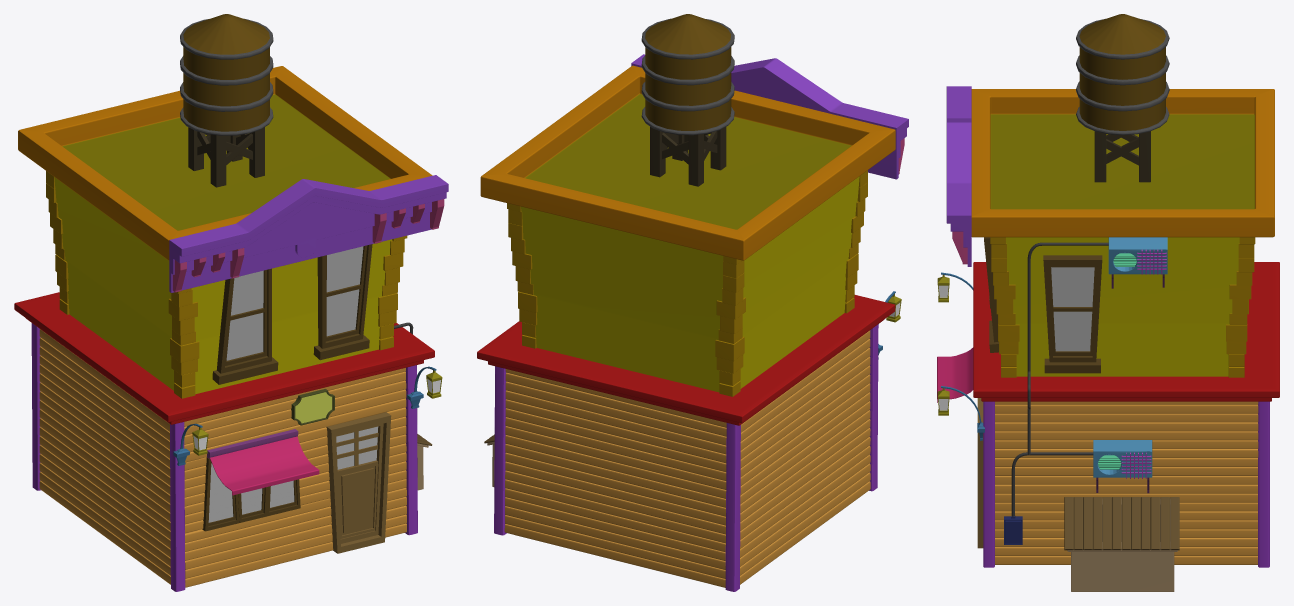
File: Building2.fbx
3 views of the same model, side by side, from view 1: azimuth 30°, elevation 25°; view 2: azimuth 150°, elevation 25°; view 3: azimuth 270°, elevation 25° (orthographic).
Parts seen in each view (by area): view 1: polySurface732.001; view 2: polySurface732.001; view 3: polySurface732.001.
Part boxes in pixels (x1,y1,x2,y2): polySurface732.001: [14, 14, 448, 591]; polySurface732.001: [477, 14, 908, 591]; polySurface732.001: [937, 14, 1279, 591].
Size of the model in its own units: 690 by 1055 by 665.
